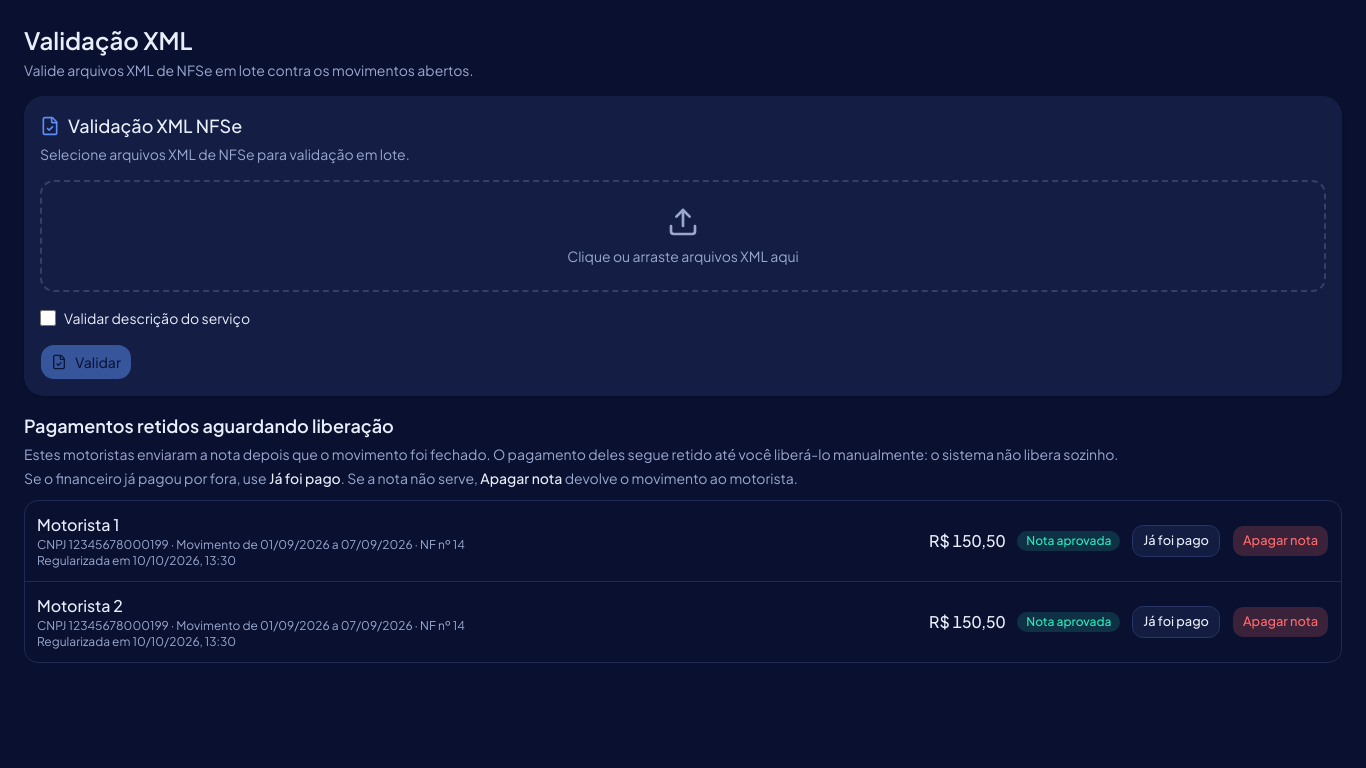
Scenario: ValidacaoXmlHubPage › ações do financeiro (Já foi pago / Apagar nota) › Já foi pago: confirma com referência, sai da lista e vai para "Marcados como já pagos"
Click the button "Já foi pago" in the row of "Motorista 1" at (1176, 541), box [1132,525,1220,557]
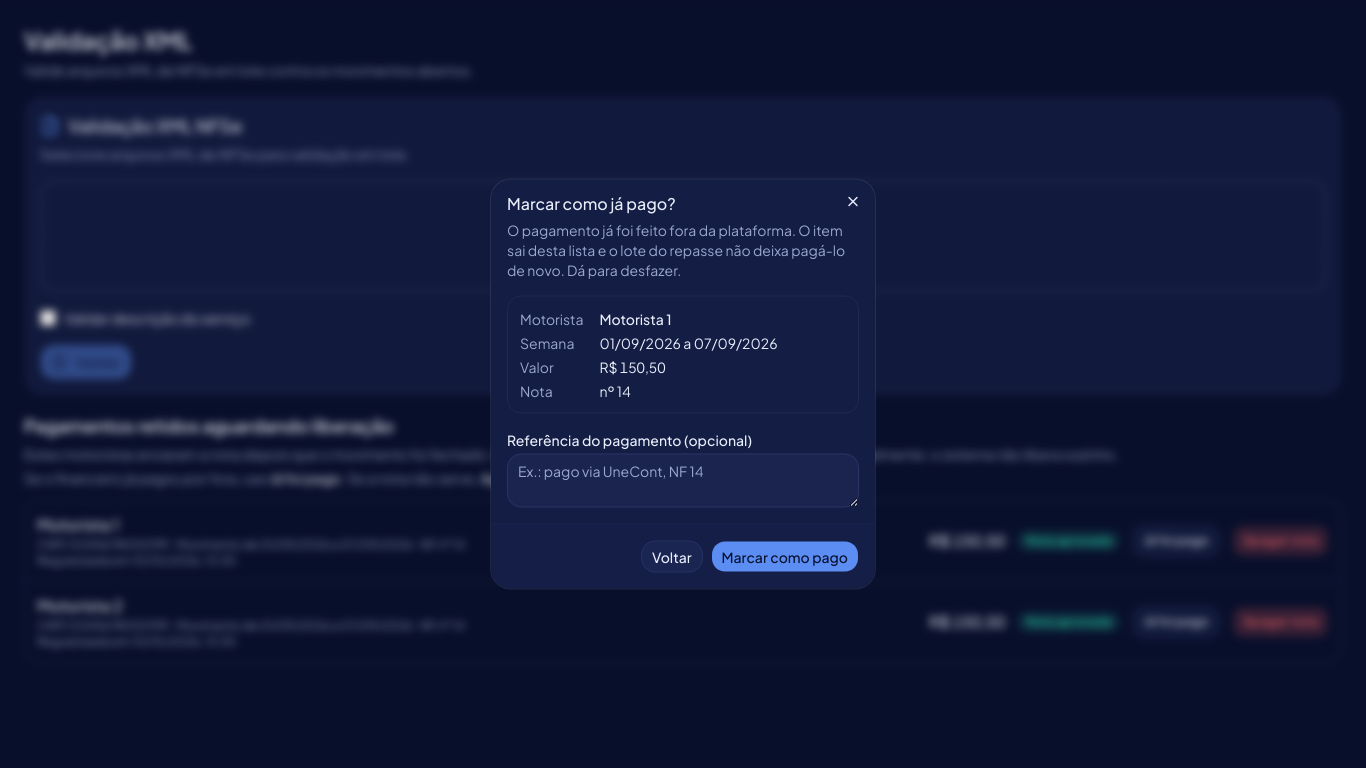
Now the dialog shows "Motorista 1", box [599,310,672,328]
Now the dialog shows "nº 14", box [599,382,631,400]
Type "UneCont NF 14" into the text box labelled "Referência do pagamento (opcional)" at (683, 480), box [507,454,859,508]
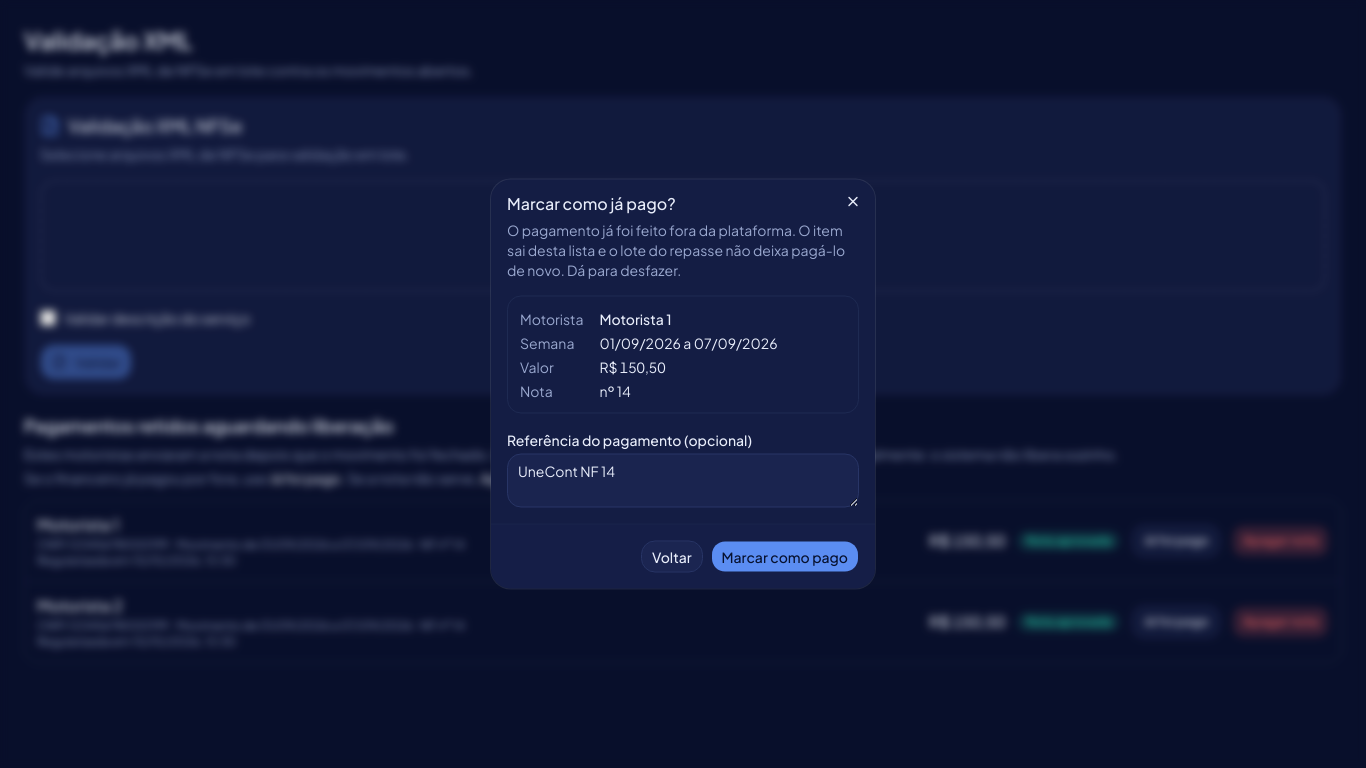
Click the button "Marcar como pago" at (785, 556), box [711,540,859,572]
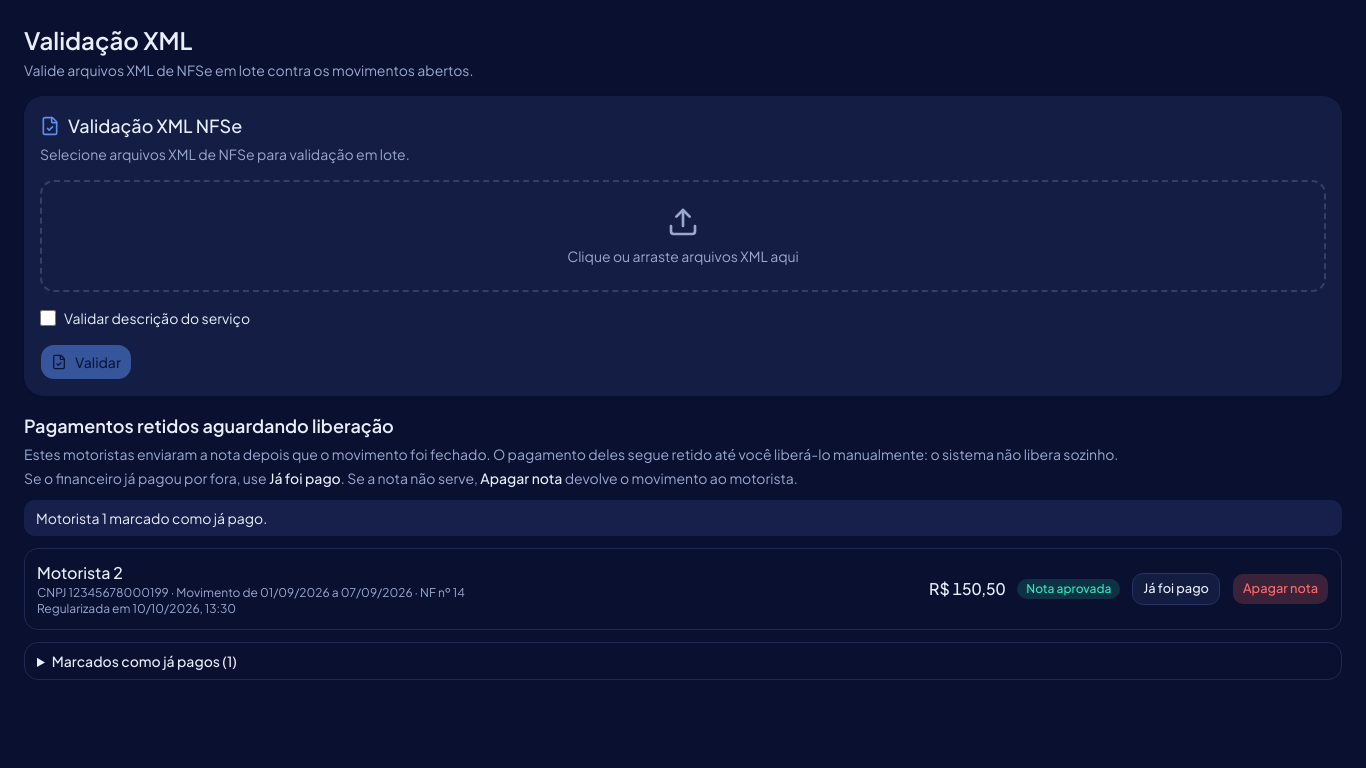
Now the heading "Marcados como já pagos (1)" is shown, box [52,652,237,670]
Now the number of buttons "Já foi pago" is 1, box [1132,573,1220,605]
